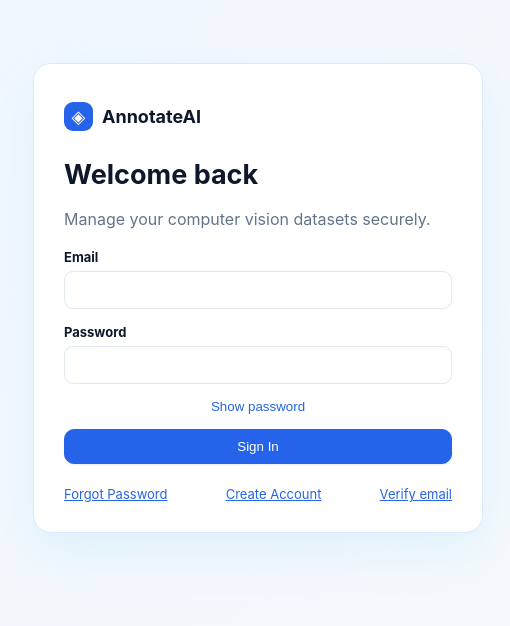
Test case: shows authentication failures
Type "user@example.com" into the field labelled "Email" at point(258, 290), box [64,271,452,309]
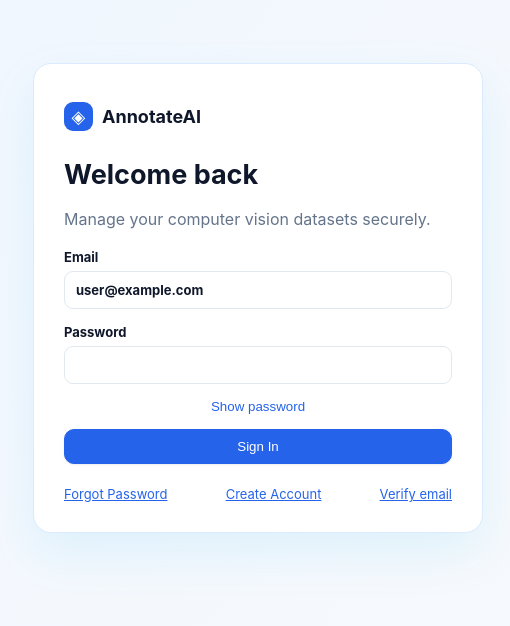
Type "long password" into the password field labelled "Password" at point(258, 365), box [64,346,452,384]
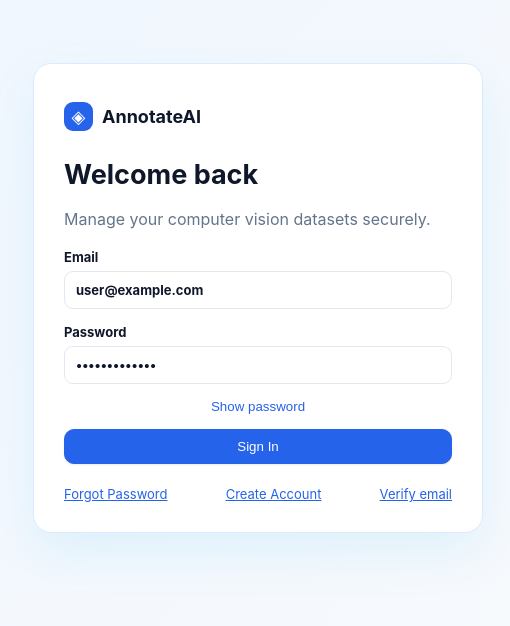
Click the button "Sign In" at point(258, 446), box [64,429,452,464]
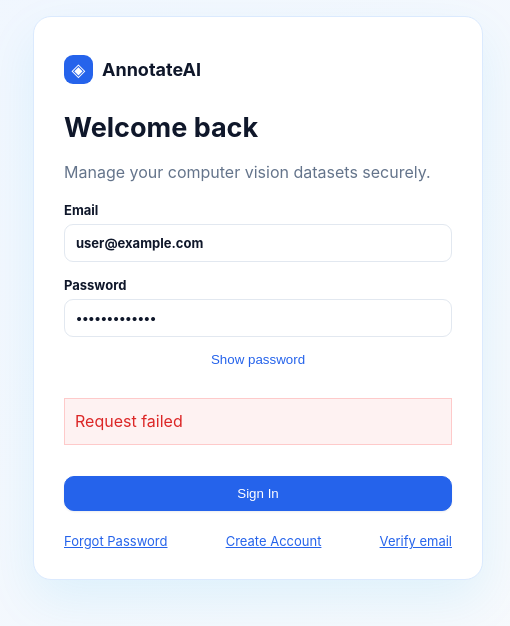
Expected: the message "Request failed" is shown, [64,398,452,445]
